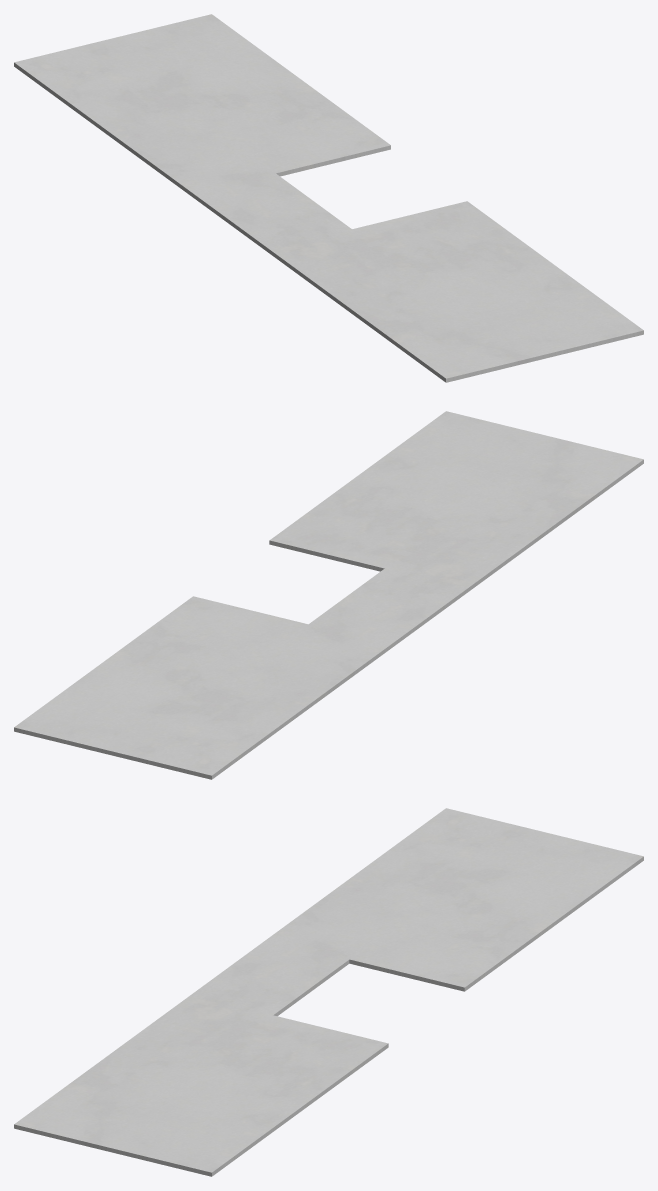
File: SecondFloor_Floor.fbx
The picture shows the model from 3 angles, top to bottom: view 1: azimuth 30°, elevation 25°; view 2: azimuth 150°, elevation 25°; view 3: azimuth 330°, elevation 25°; orthographic projection.
Visible parts, largest first — view 1: Floor2_Floor.002; view 2: Floor2_Floor.002; view 3: Floor2_Floor.002.
Part boxes in pixels (x1,y1,x2,y2): Floor2_Floor.002: (14, 14, 643, 382); Floor2_Floor.002: (14, 411, 643, 779); Floor2_Floor.002: (14, 808, 643, 1176).
Size of the model in its own units: 454 by 9.09 by 1716.
Materials: 1 (1 with a texture image).
